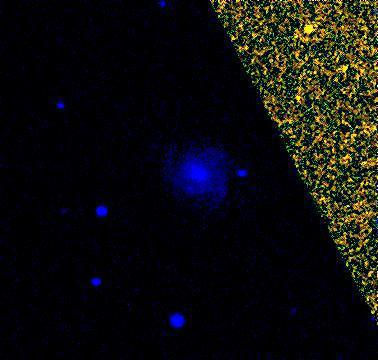star: (293, 14, 323, 44)
